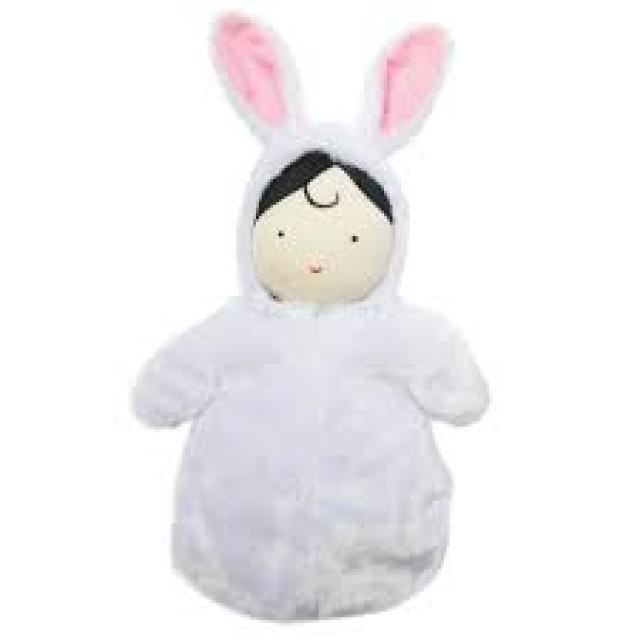soft-toy: (136, 15, 489, 619)
